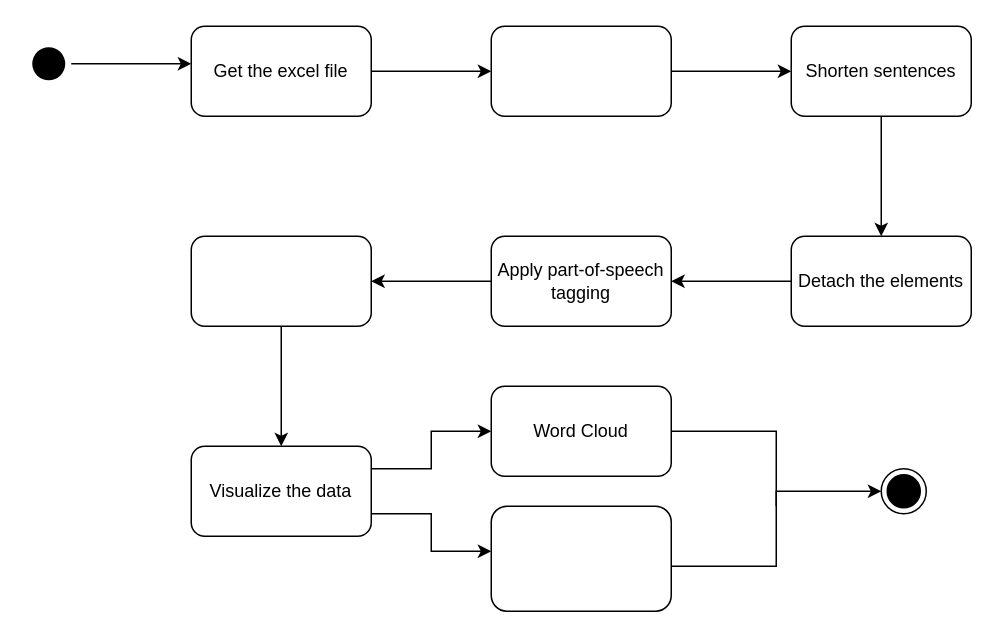
This 998x638 diagram has some shape labels left out. The box of each missing label's shape, as (x1, y1, x2, y2) in pixels:
Read the file content: (490, 25, 671, 116)
Store actor, verb and object in lists: (190, 235, 371, 326)
Tree: (490, 505, 671, 611)
